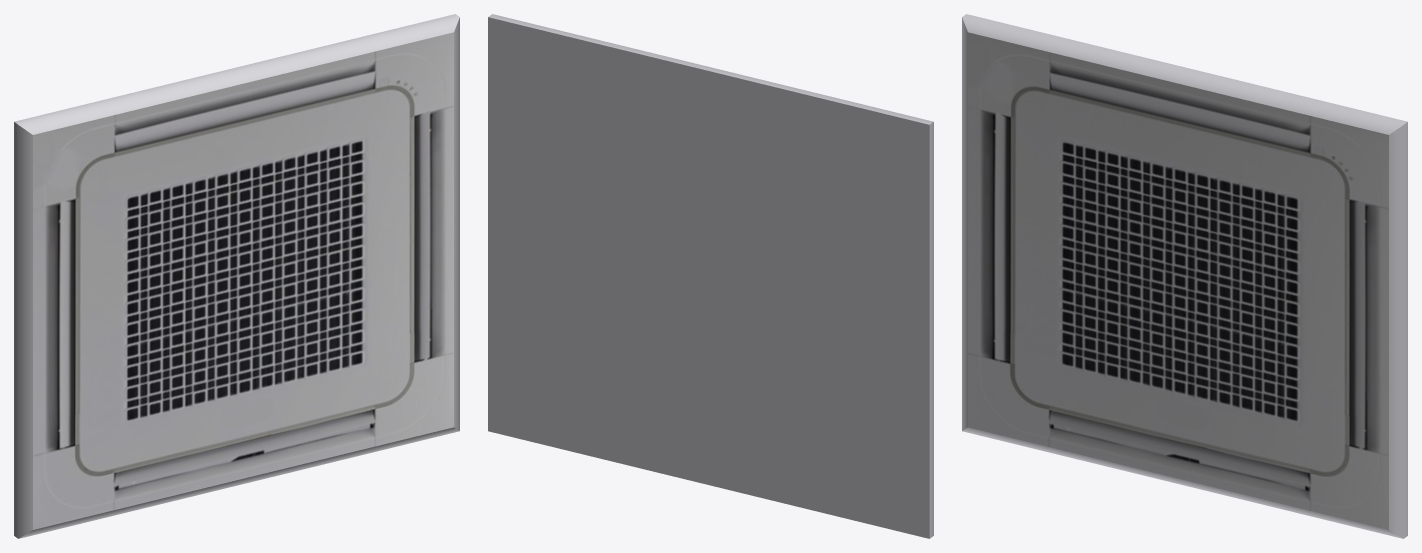
File: aire acondicionado .fbx
3 views of the same model, side by side, from view 1: azimuth 30°, elevation 25°; view 2: azimuth 150°, elevation 25°; view 3: azimuth 330°, elevation 25° (orthographic).
Visible parts, largest first — view 1: Air_conditioner; view 2: Air_conditioner; view 3: Air_conditioner.
Part boxes in pixels (x1=…): Air_conditioner: x1=14, y1=14, x2=459, y2=538; Air_conditioner: x1=488, y1=14, x2=933, y2=538; Air_conditioner: x1=962, y1=14, x2=1407, y2=538.
Size of the model in its own units: 55.94 by 50.14 by 1.88.
1 material, 1 textured.
